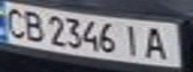2: (42, 12, 66, 47)
3: (63, 16, 84, 51)
4: (78, 18, 100, 52)
6: (96, 20, 121, 55)
A: (139, 24, 175, 61)
B: (18, 8, 48, 43)
C: (0, 4, 30, 38)
I: (118, 21, 148, 57)
